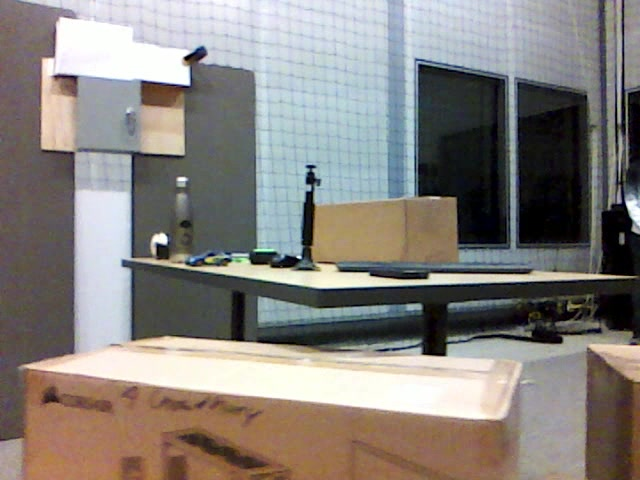box: (22, 331, 529, 480), (315, 198, 456, 263), (588, 343, 640, 480)
